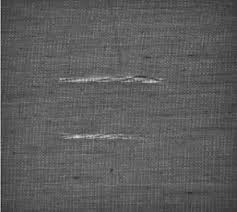Hole: (49, 53, 180, 98), (48, 119, 169, 151)
